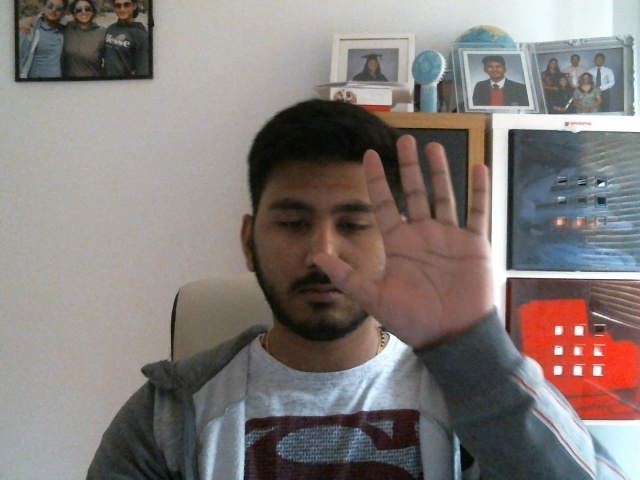hello: (314, 134, 490, 333)
